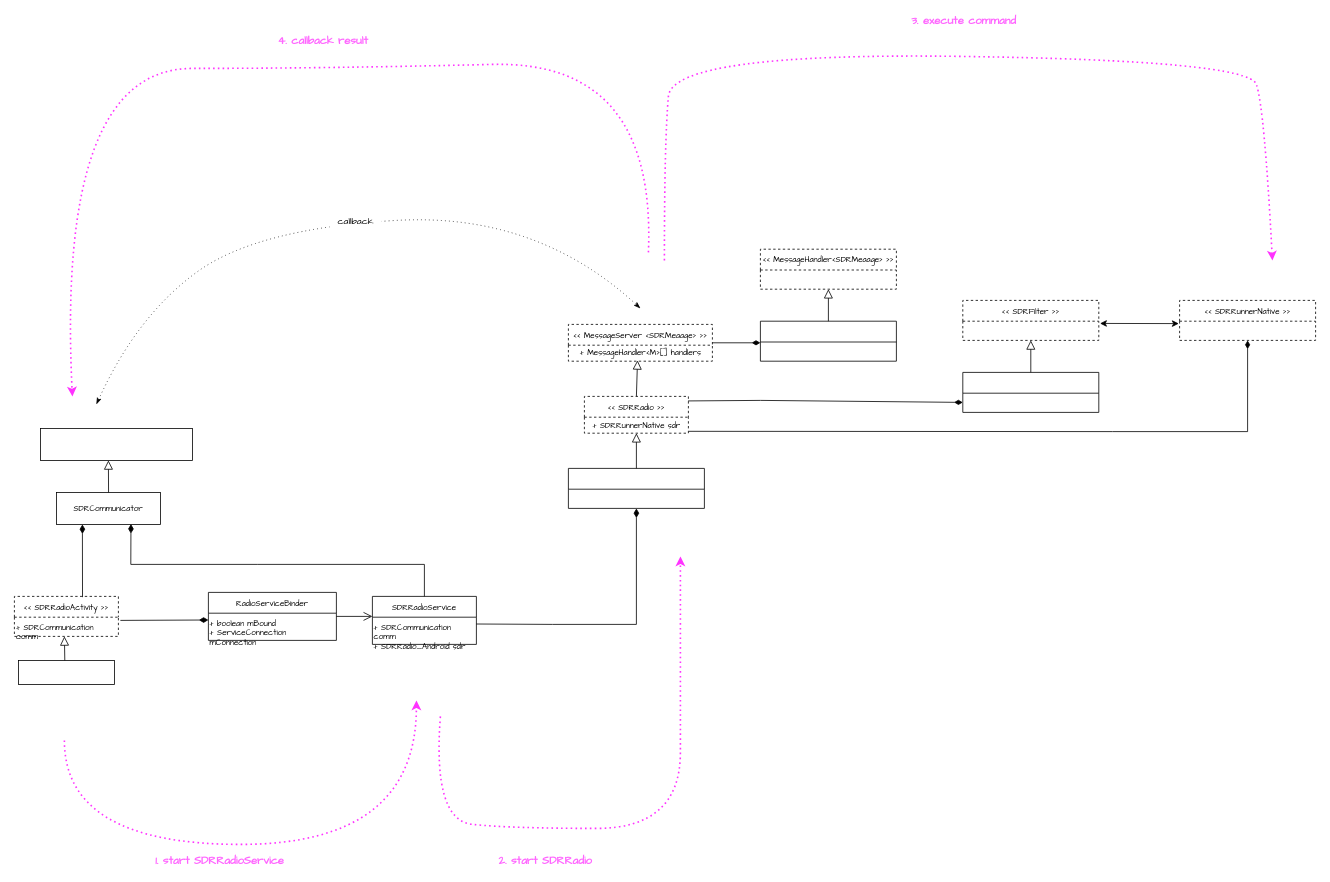
The diagram is 1330 pixels wide and 882 high, and some of its shapes have lost their labels. Each missing label, with the centre of its shape:
"MessageClient<SDRMessage>" belongs at pixel 116 444.
"SDRFilter_Demodulator" belongs at pixel 1030 392.
"SDRMessageHanlder" belongs at pixel 828 340.
"SDRRadio_Android" belongs at pixel 636 488.
"SDRTouchMain" belongs at pixel 66 672.
